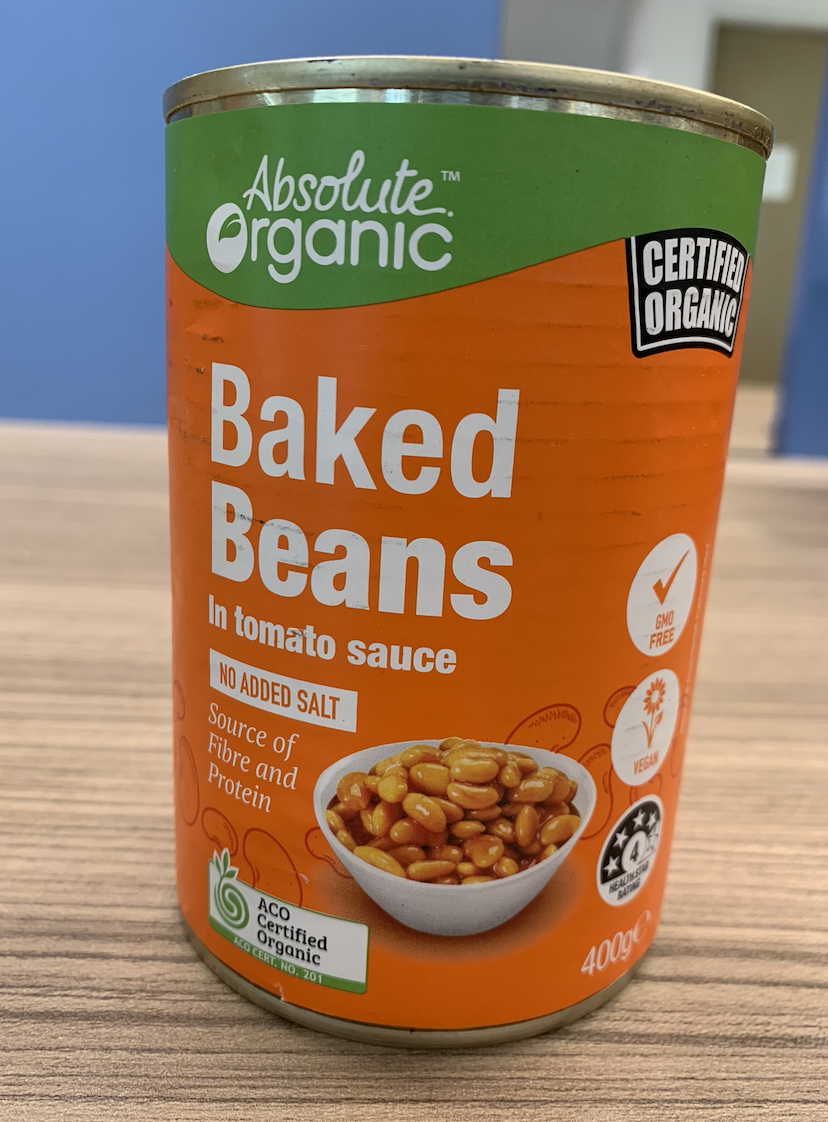Baked beans_450g: (188, 127, 709, 1011)
